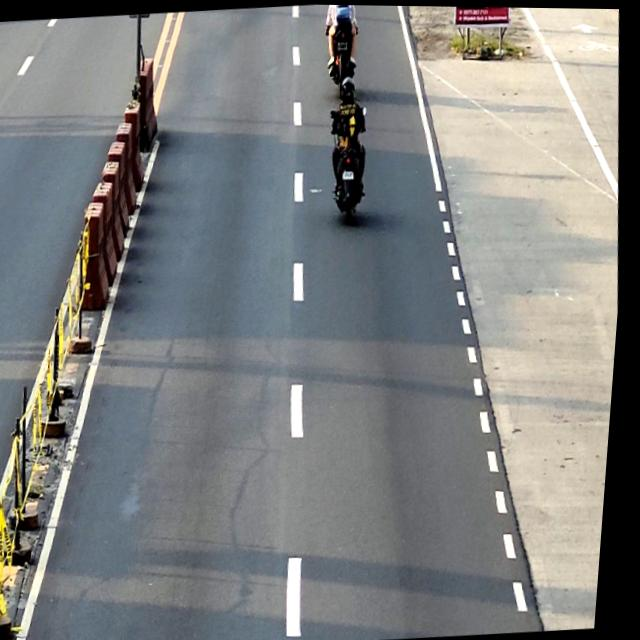License-Plate: (344, 169, 357, 179)
Motorcycle: (324, 104, 376, 226), (325, 13, 363, 97)
